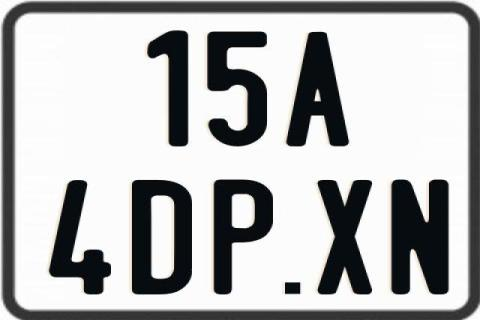0: (49, 180, 113, 297), (205, 29, 267, 145), (144, 28, 188, 147)
A: (284, 32, 354, 147)
D: (130, 180, 194, 294)
N: (388, 177, 447, 297)
P: (213, 180, 272, 300)
X: (314, 180, 369, 297)
